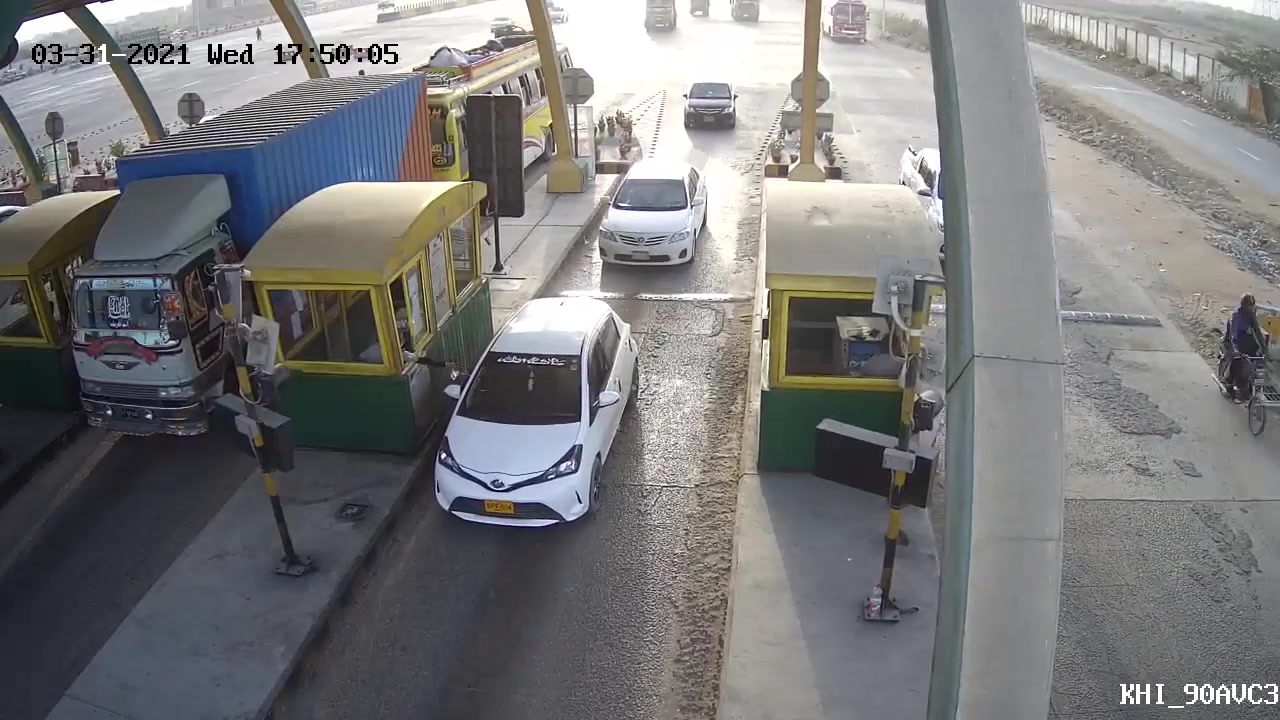F1: (418, 294, 637, 557), (589, 158, 710, 272), (674, 76, 741, 137)
